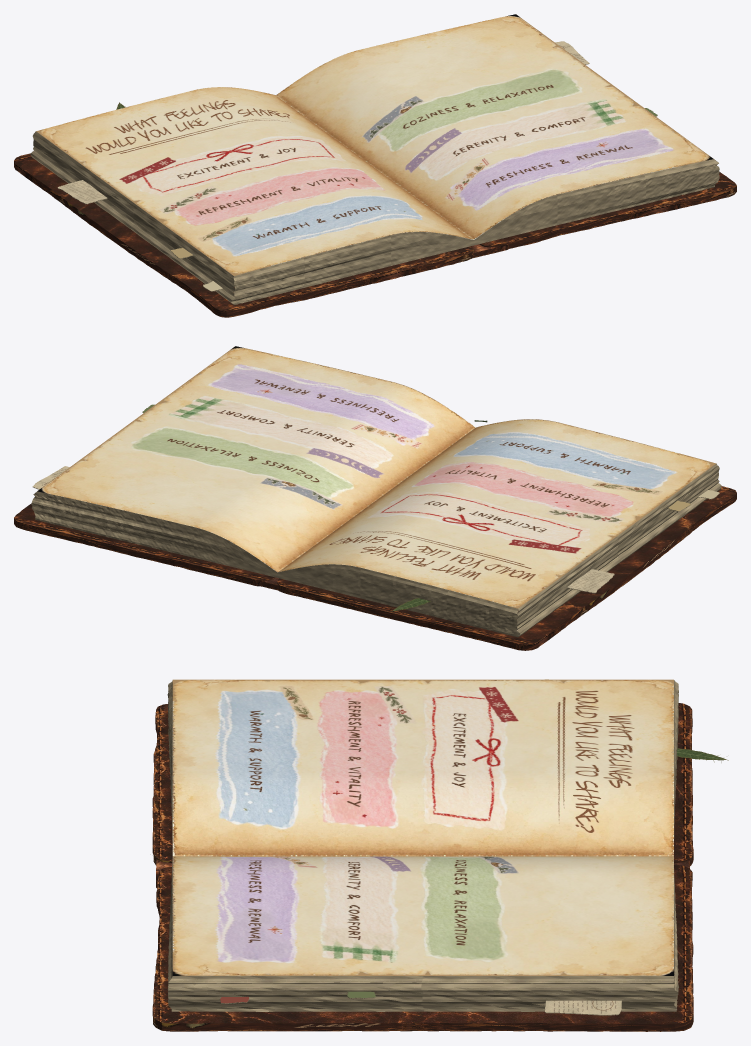
File: recipe_book_open.glb
The picture shows the model from 3 angles, top to bottom: view 1: azimuth 30°, elevation 25°; view 2: azimuth 150°, elevation 25°; view 3: azimuth 270°, elevation 25°; orthographic projection. The views are drawn at different scales.
Visible parts, largest first — view 1: Book_StackR_Pages, Book_StackL_Pages, Book_StackL_PageEdge, Book_Cover, Book_StackR_PageEdge, Book_StackL_Scrap; view 2: Book_StackR_Pages, Book_StackL_Pages, Book_StackL_PageEdge, Book_Cover, Book_StackR_PageEdge, Book_StackL_Scrap; view 3: Book_StackL_Pages, Book_StackR_Pages, Book_Cover, Book_StackR_PageEdge, Book_StackR_Scrap, Book_StackL_PageEdge.
Part boxes in pixels (x1,y1,x2,y2): Book_StackR_Pages: (276, 14, 713, 239); Book_StackL_Pages: (36, 87, 473, 275); Book_StackL_PageEdge: (30, 131, 473, 304); Book_Cover: (14, 153, 736, 317); Book_StackR_PageEdge: (474, 30, 719, 245); Book_StackL_Scrap: (58, 180, 106, 203); Book_StackR_Pages: (37, 346, 475, 572); Book_StackL_Pages: (278, 419, 716, 608); Book_StackL_PageEdge: (277, 463, 721, 637); Book_Cover: (14, 486, 736, 650); Book_StackR_PageEdge: (31, 412, 277, 577); Book_StackL_Scrap: (567, 569, 614, 592); Book_StackL_Pages: (172, 679, 673, 856); Book_StackR_Pages: (172, 856, 673, 975); Book_Cover: (152, 703, 693, 1031); Book_StackR_PageEdge: (167, 861, 678, 1015); Book_StackR_Scrap: (545, 1000, 621, 1014); Book_StackL_PageEdge: (167, 680, 678, 839).
Size of the model in its own units: 0.6245 by 0.0409 by 0.5771.
7 materials, 6 textured.
